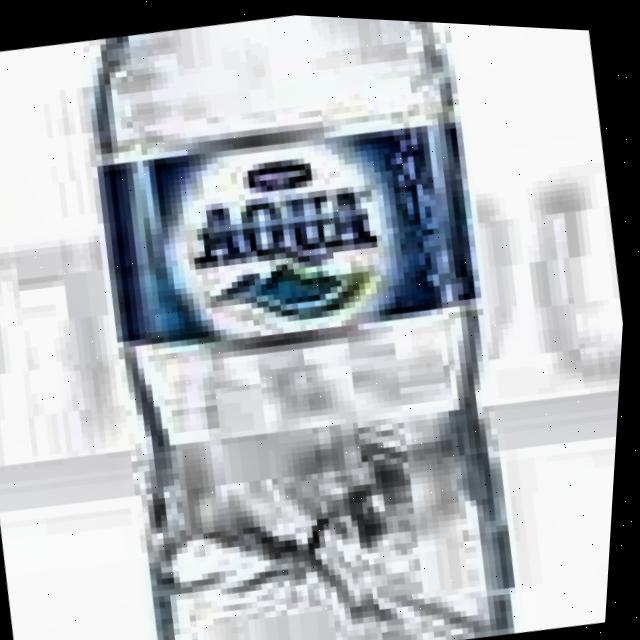plastic: (26, 2, 634, 640)
